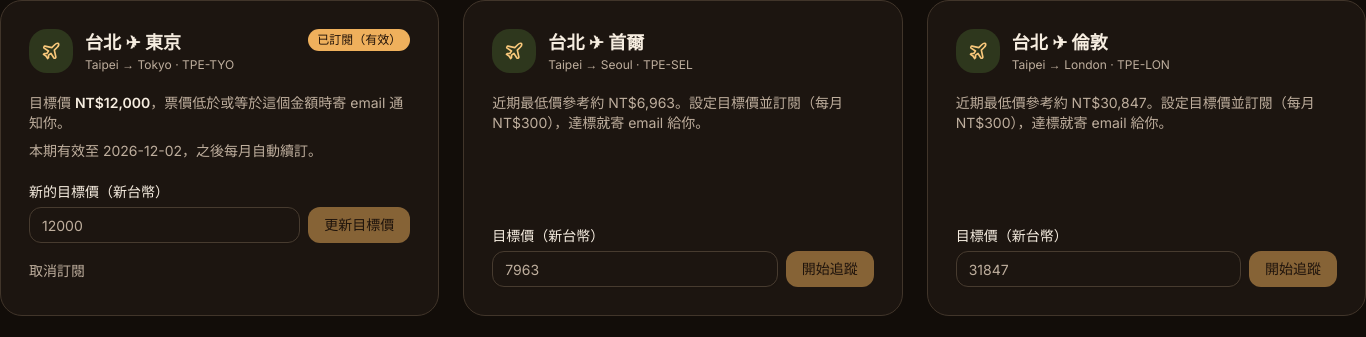
Test case: PlanCards › cancels an active subscription after confirmation
Click the button "取消訂閱": (57, 271) [29,255,85,287]
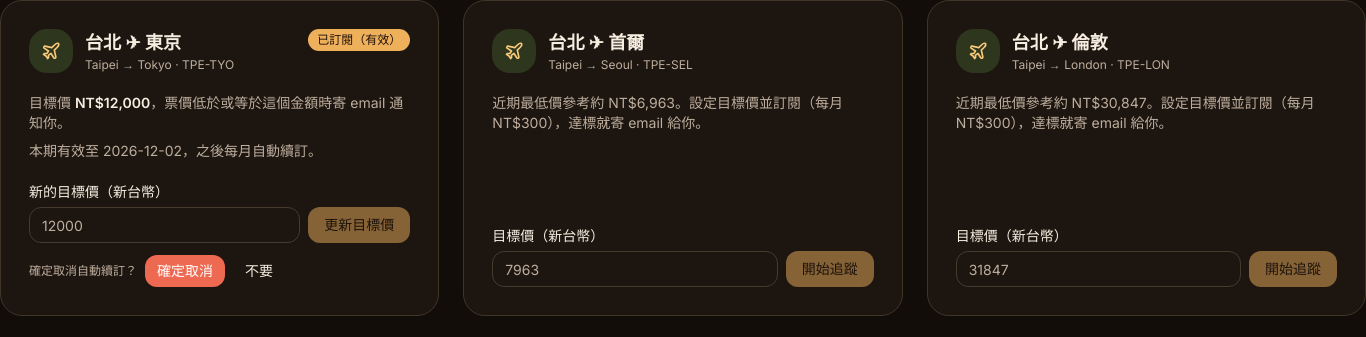
Click the button "確定取消": (185, 271) [145,255,225,287]
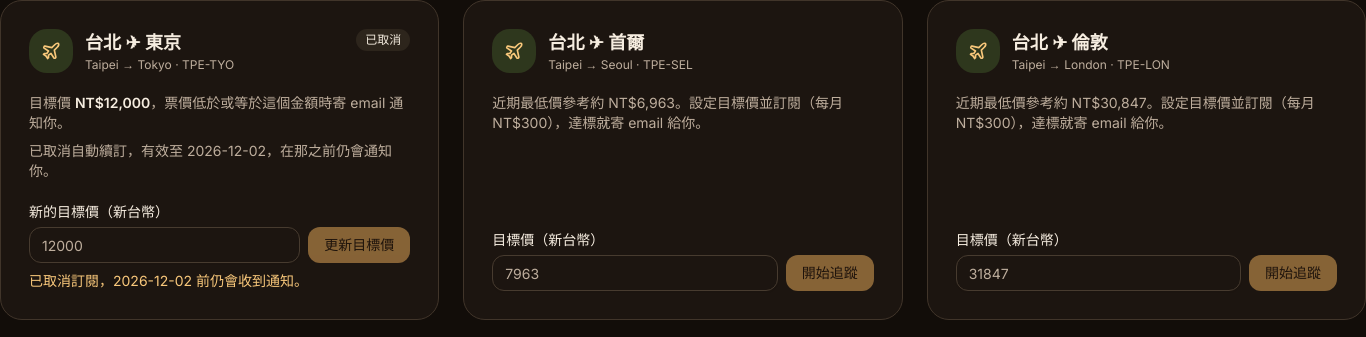
Expected: the text "已取消自動續訂，有效至 2026-12-02，在那之前仍會通知你。" is shown, [29,141,410,181]
Result: the text "已取消" is shown at [356,29,410,51]
